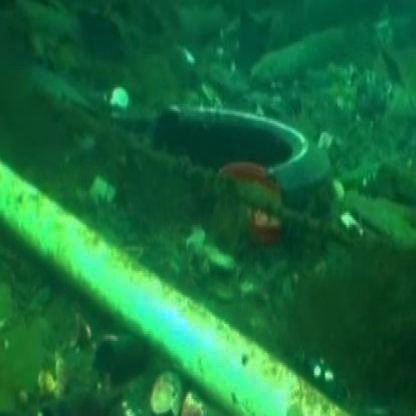rod: (2, 162, 383, 416)
tire: (143, 85, 344, 237)
